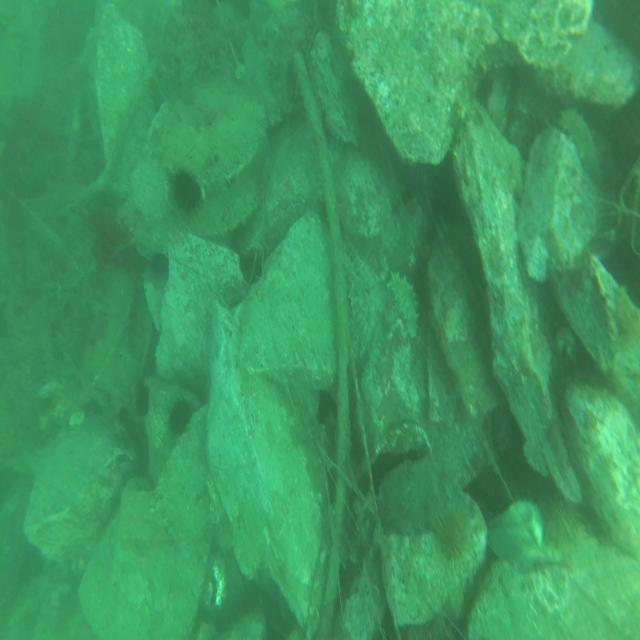echinus: (430, 503, 481, 572), (164, 170, 208, 217), (168, 397, 193, 437)
holothurian: (193, 170, 266, 238), (554, 101, 603, 193), (432, 417, 482, 480), (387, 270, 421, 342)
